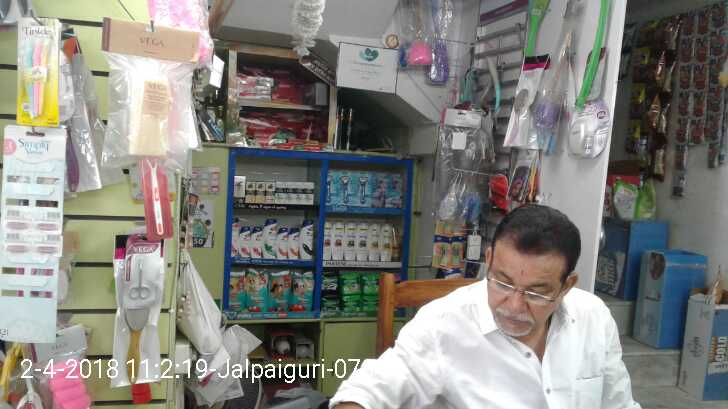venus: (340, 170, 359, 204), (360, 171, 374, 205), (327, 170, 340, 204)
